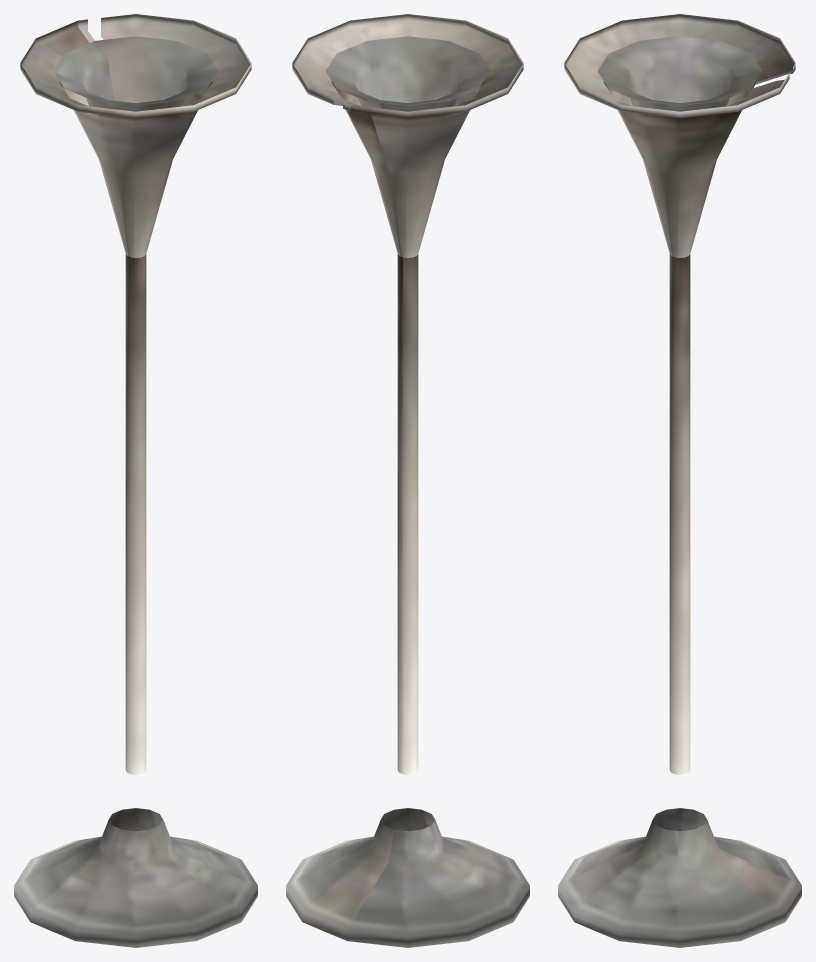
File: SLAP_SH_Lamp01.fbx
3 renders of one model, left to right at view 1: azimuth 30°, elevation 25°; view 2: azimuth 150°, elevation 25°; view 3: azimuth 270°, elevation 25°, orthographic.
Parts seen in each view (by area): view 1: SLAP_SH_Lamp01; view 2: SLAP_SH_Lamp01; view 3: SLAP_SH_Lamp01.
Boxes of the visible parts, left/top/right/bottom form: SLAP_SH_Lamp01: left=14, top=14, right=257, bottom=947; SLAP_SH_Lamp01: left=286, top=14, right=529, bottom=947; SLAP_SH_Lamp01: left=558, top=14, right=801, bottom=947.
Bounding box in the file's own units: 0.2719 × 1.03 × 0.2719.
Materials: 1 (1 with a texture image).
